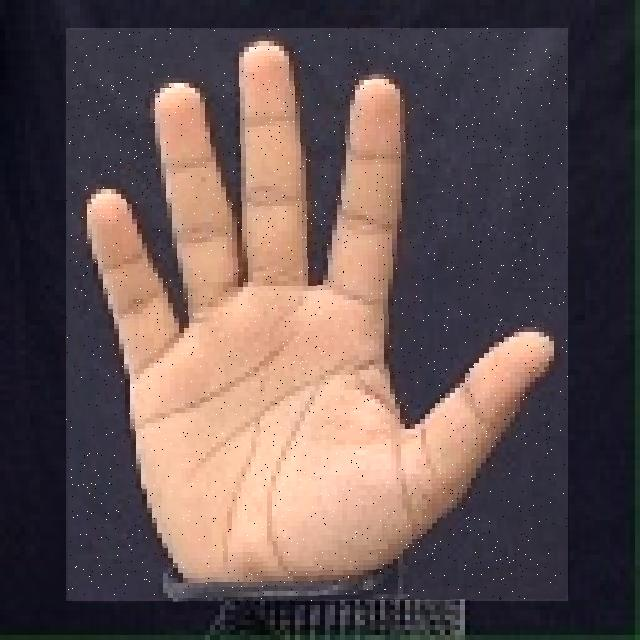Yes: (66, 28, 568, 601)
